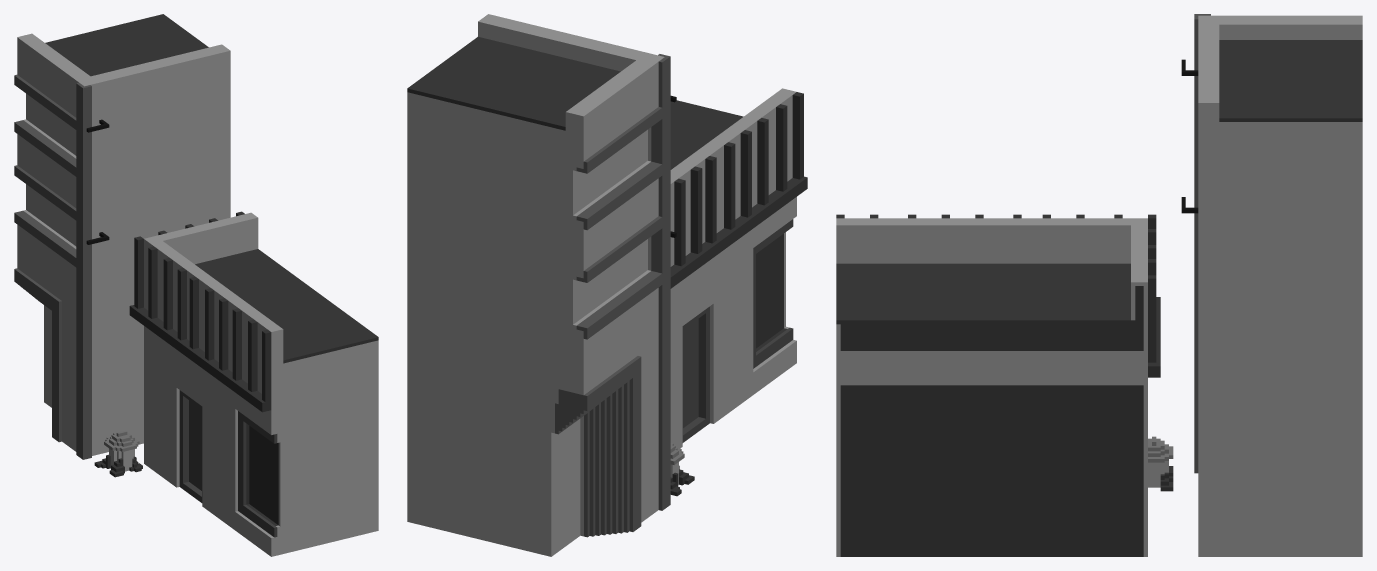
File: casa2.obj
3 renders of one model, left to right at view 1: azimuth 30°, elevation 25°; view 2: azimuth 150°, elevation 25°; view 3: azimuth 270°, elevation 25°, orthographic. The views are drawn at different scales.
Bounding box in the file's own units: 50 × 119 × 125.
Materials: 1 (1 with a texture image).
